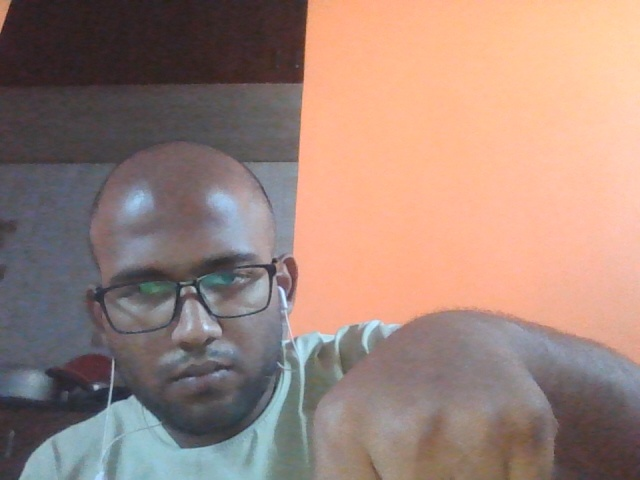yes: (270, 300, 582, 480)
